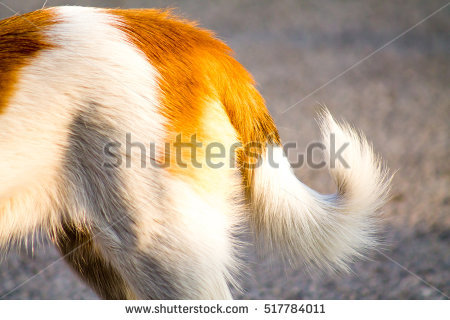tail: (250, 105, 398, 282)
